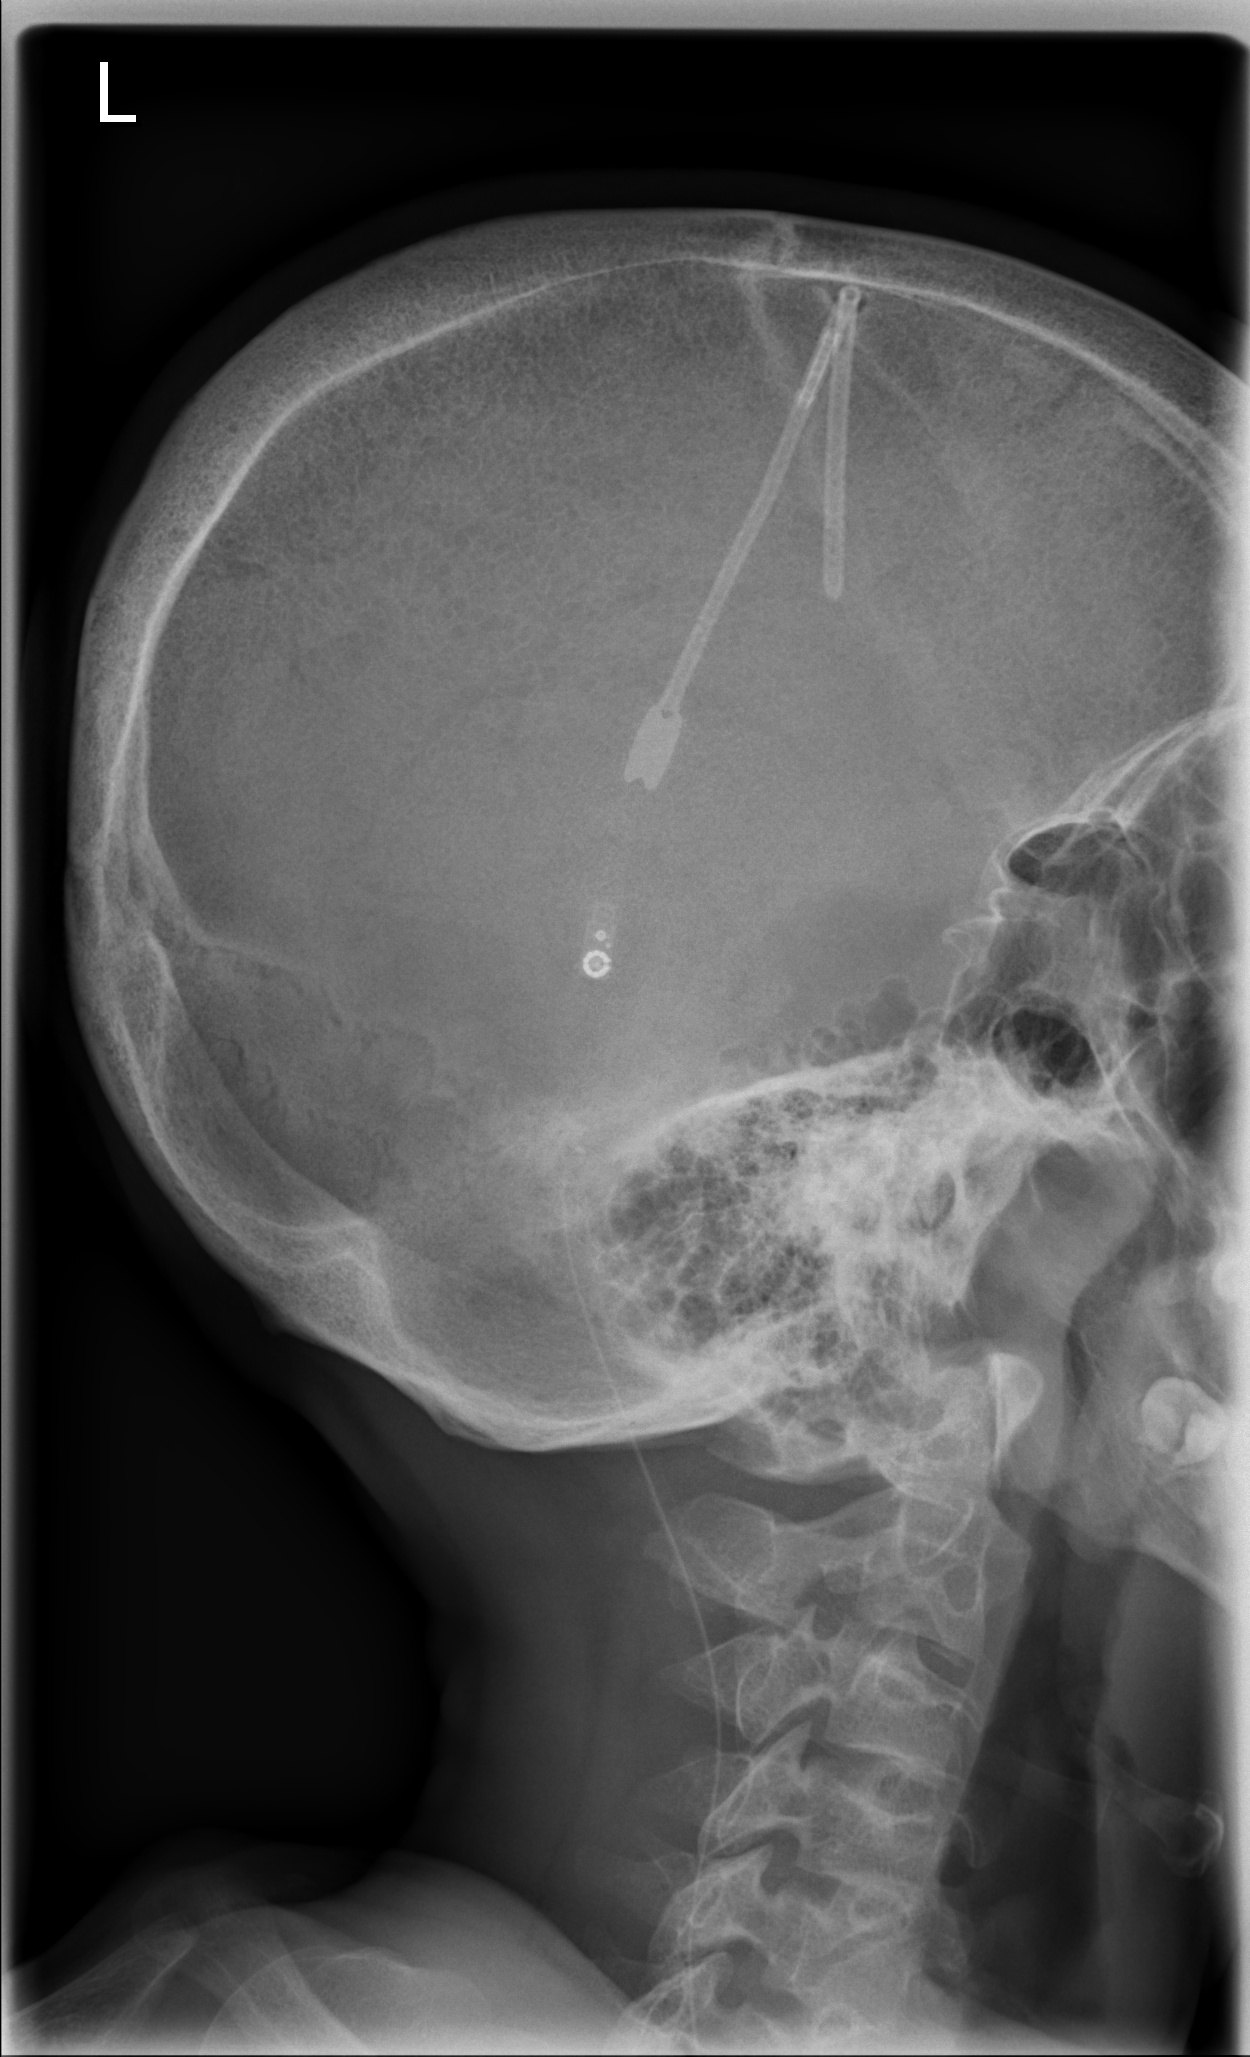Codman Hakim: (555, 912, 621, 987)
